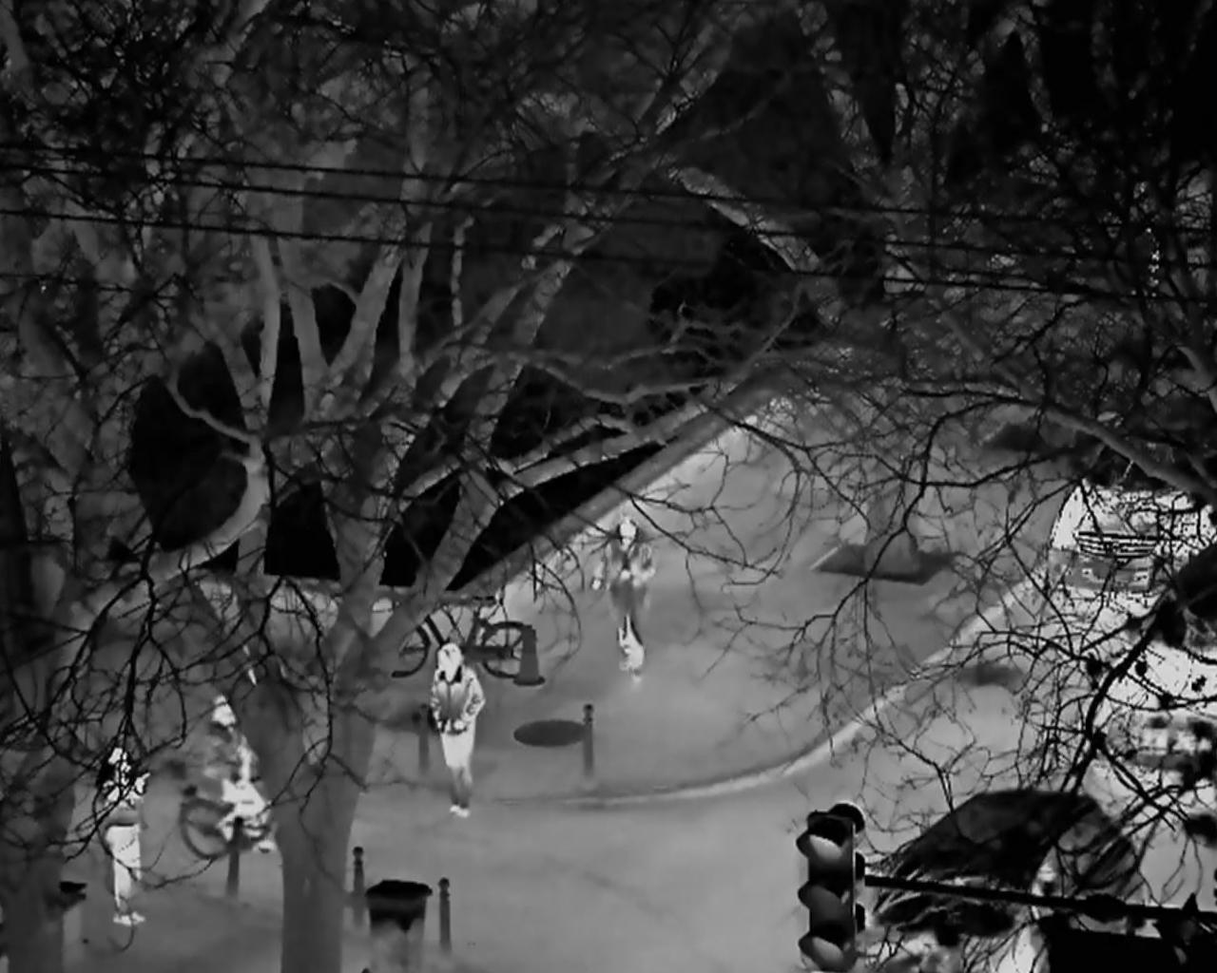person: (203, 694, 273, 852), (428, 642, 487, 817), (101, 747, 151, 926), (591, 519, 648, 674)
